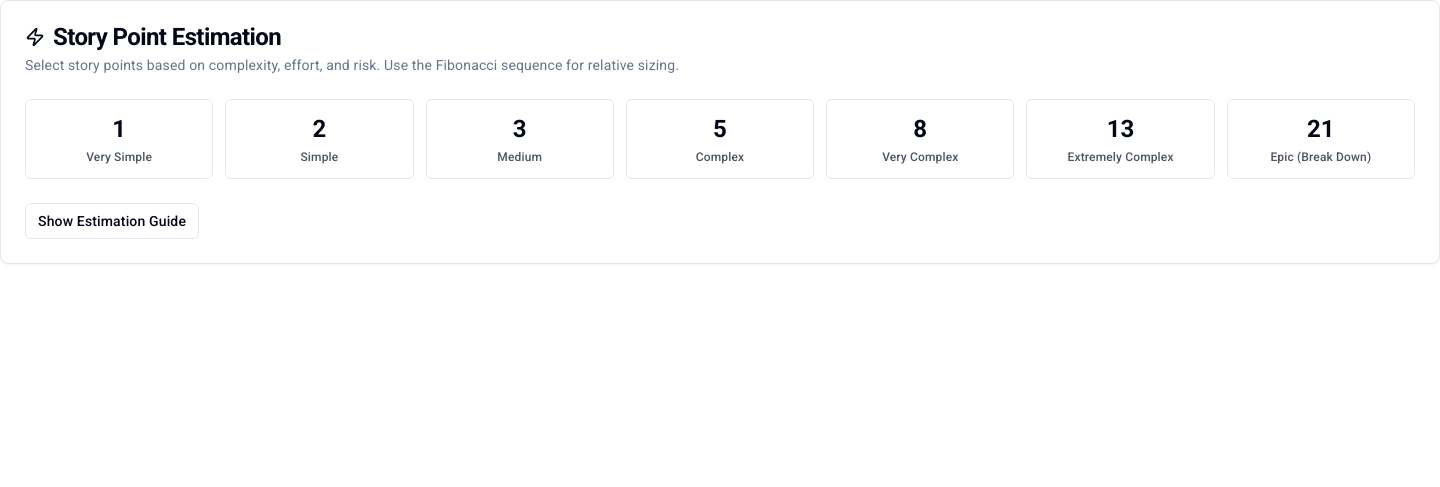
StoryPointEstimator › shows selected point in badge
Click the button "3 Medium" at (520,139), box top-left (426, 99), bottom-right (614, 179)
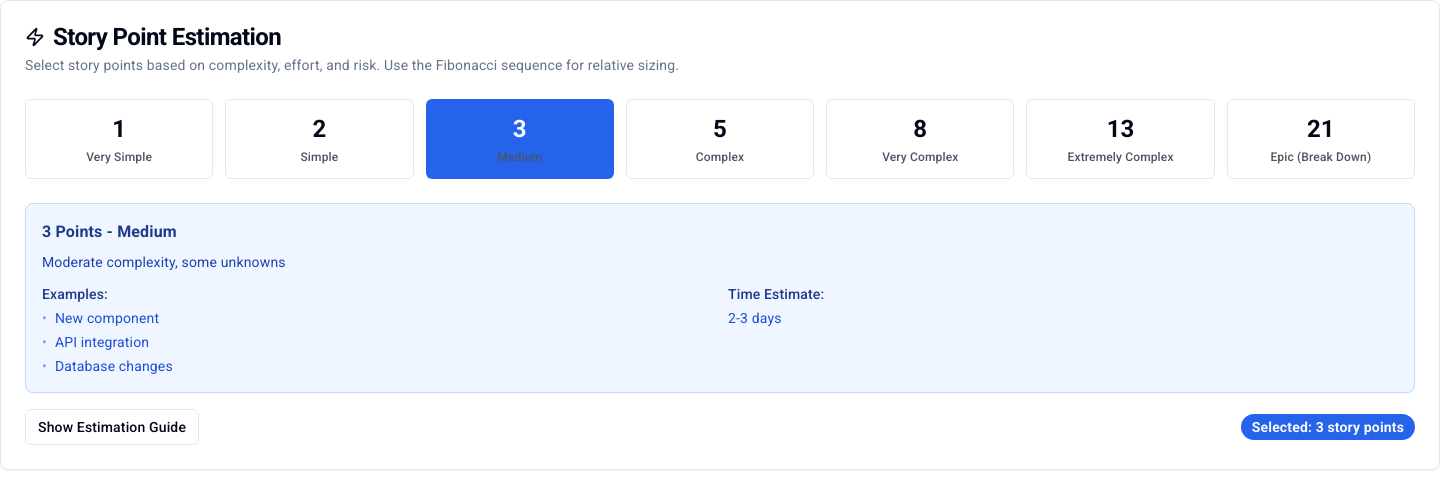
Check: the text "Selected: 3 story points" is shown, box top-left (1241, 414), bottom-right (1415, 440)
